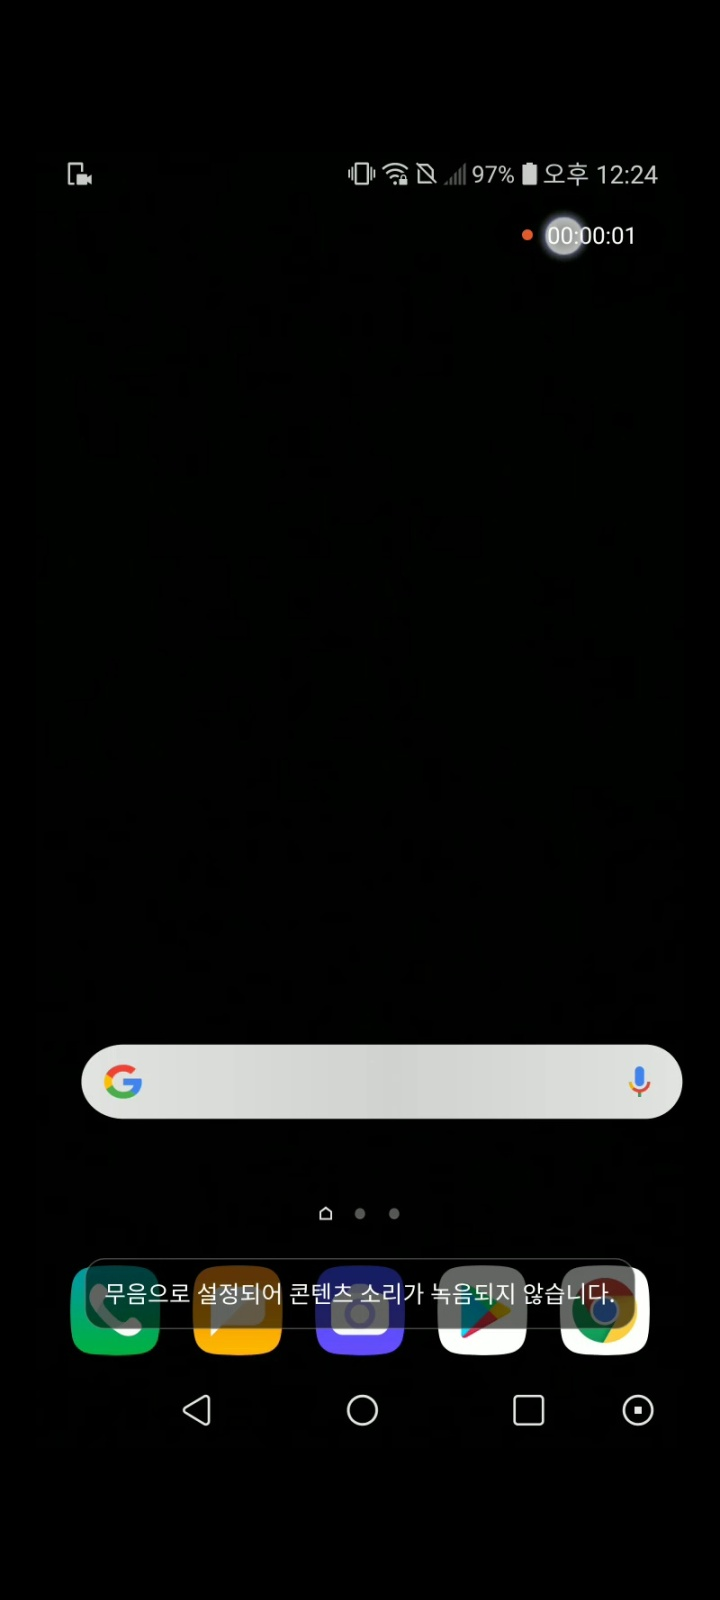Cursor: (541, 213, 585, 259)
